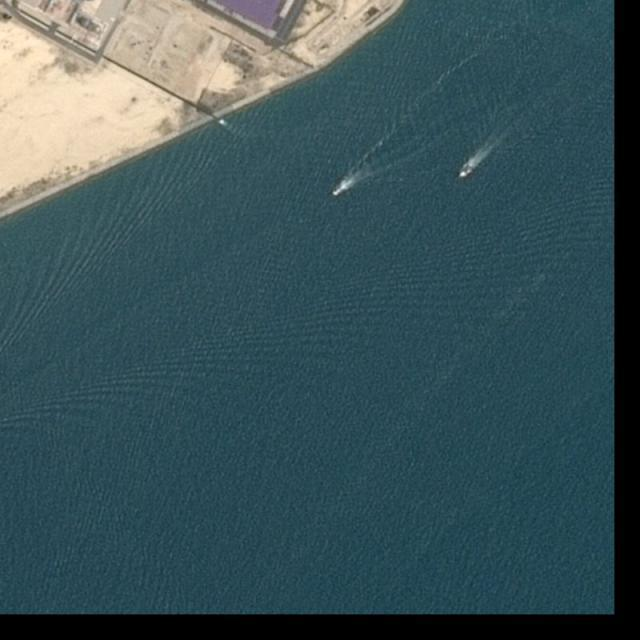ship: (458, 167, 472, 179), (332, 188, 342, 197)
